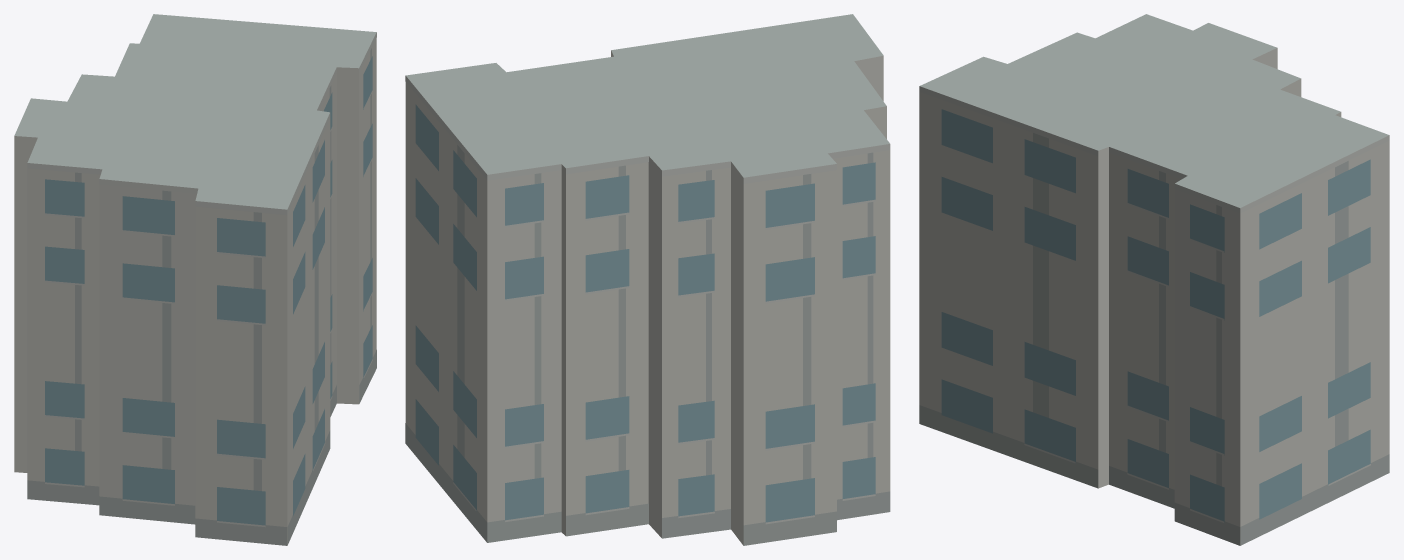
Rendered from survey-upis-32799784.glb.
The picture shows the model from 3 angles, left to right: view 1: azimuth 30°, elevation 25°; view 2: azimuth 150°, elevation 25°; view 3: azimuth 270°, elevation 25°; orthographic projection. The views are drawn at different scales.
Parts seen in each view (by area): view 1: survey-upis-32799784.tmp; view 2: survey-upis-32799784.tmp; view 3: survey-upis-32799784.tmp.
Part boxes in pixels (x1,y1,x2,y2): survey-upis-32799784.tmp: (14,14,376,545); survey-upis-32799784.tmp: (405,14,890,545); survey-upis-32799784.tmp: (919,14,1389,545).
Bounding box in the file's own units: 18.13 × 14.7 × 18.55.
